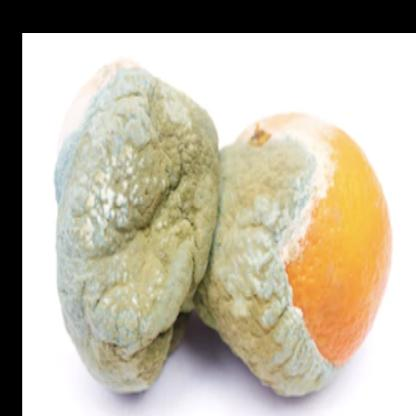rotten: (52, 58, 394, 408)
